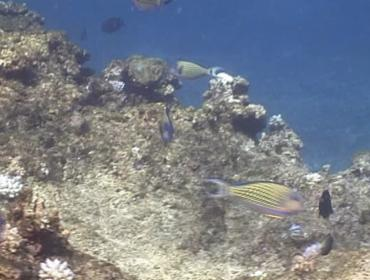Acanthuridae -Surgeonfishes-: (202, 173, 310, 221), (165, 55, 224, 81), (155, 103, 176, 147), (131, 0, 166, 14), (0, 188, 8, 246)
